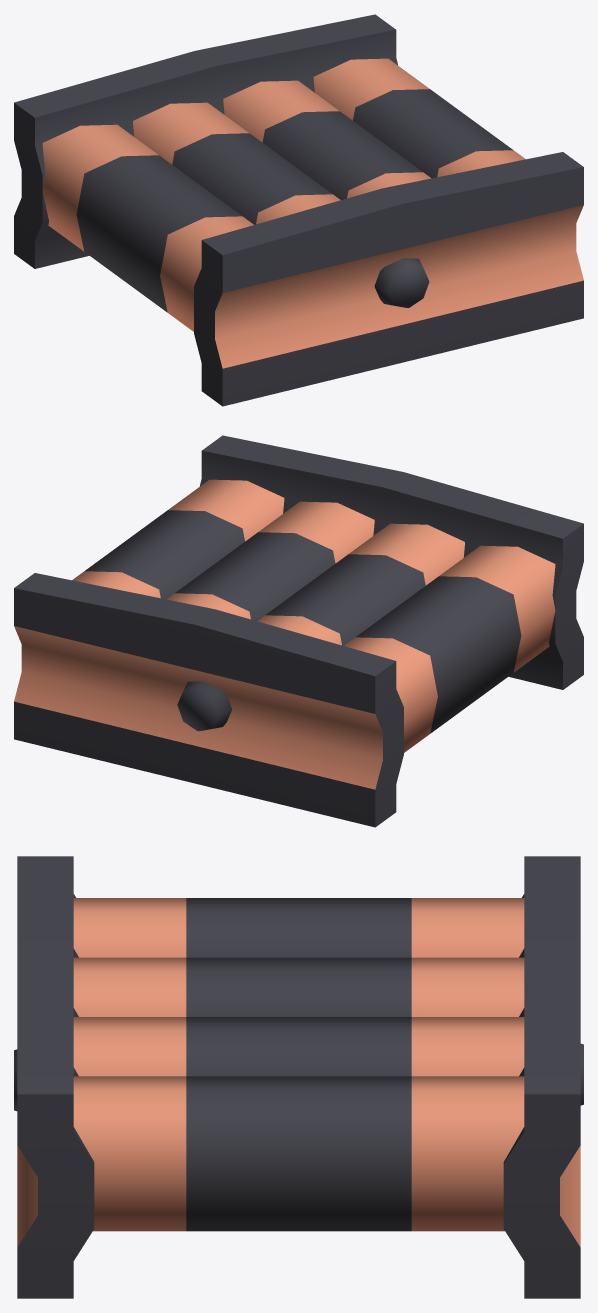
The model's file is conveyor-bars-stripe-high.obj.
3 renders of one model, top to bottom at view 1: azimuth 30°, elevation 25°; view 2: azimuth 150°, elevation 25°; view 3: azimuth 270°, elevation 25°, orthographic. The views are drawn at different scales.
Parts seen in each view (by area): view 1: conveyor-bars-stripe-high; view 2: conveyor-bars-stripe-high; view 3: conveyor-bars-stripe-high.
Part boxes in pixels (box(x1,y1,x2,y2)): conveyor-bars-stripe-high: box(14, 14, 583, 406); conveyor-bars-stripe-high: box(14, 435, 583, 827); conveyor-bars-stripe-high: box(14, 856, 583, 1298).
Bounding box in the file's own units: 1 × 0.42 × 1.01.
